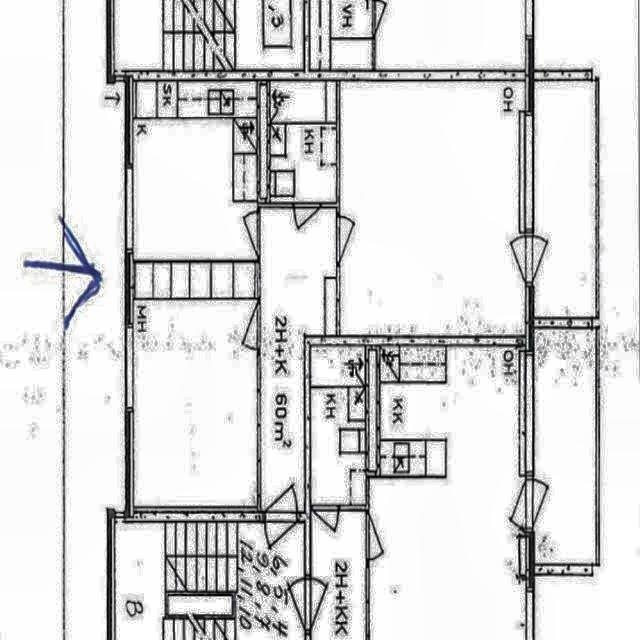room: (132, 80, 257, 509), (340, 80, 526, 336), (369, 345, 525, 638), (310, 345, 366, 507), (269, 80, 337, 203)
